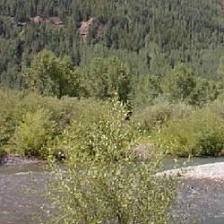neutral: (4, 2, 218, 211)
